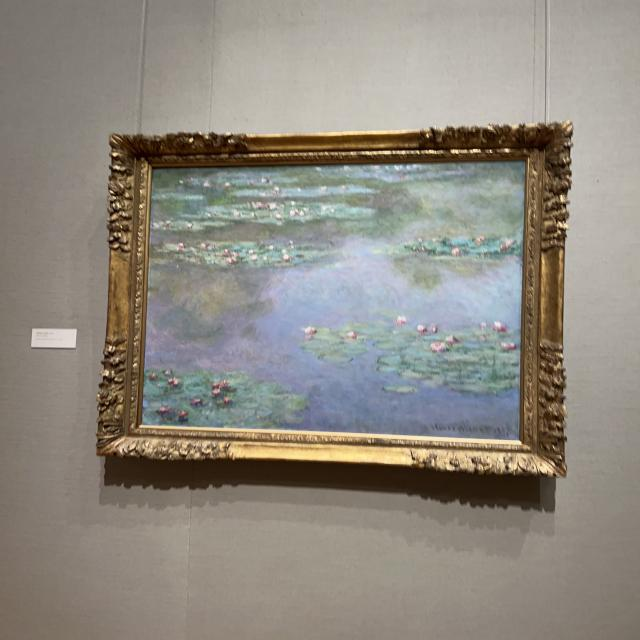lilies: (144, 164, 522, 439)
